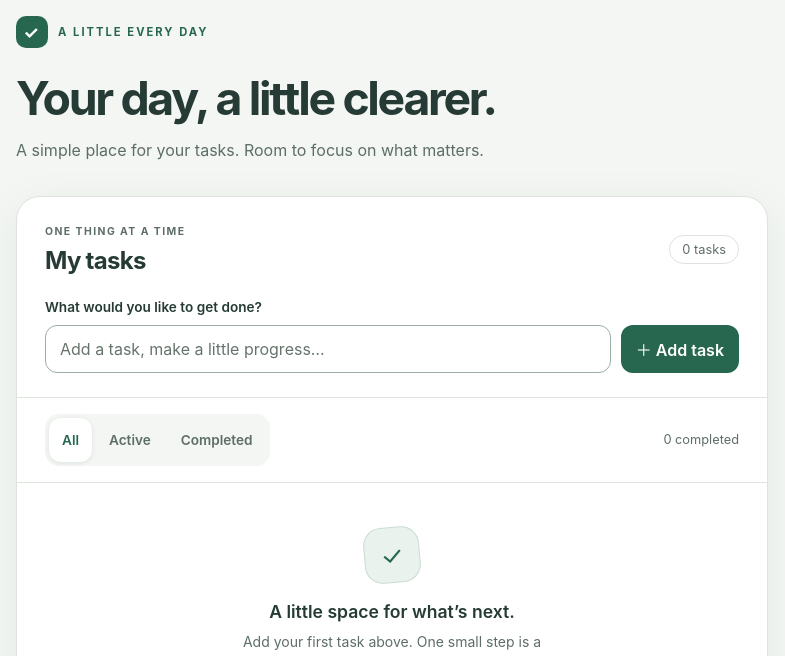
Test case: todo app › continues in memory after failed writes and recovers on a later successful mutation
Type "In memory" into the field labelled "What would you like to get done?" at (328, 349), box [45,325,611,373]
Then press Enter
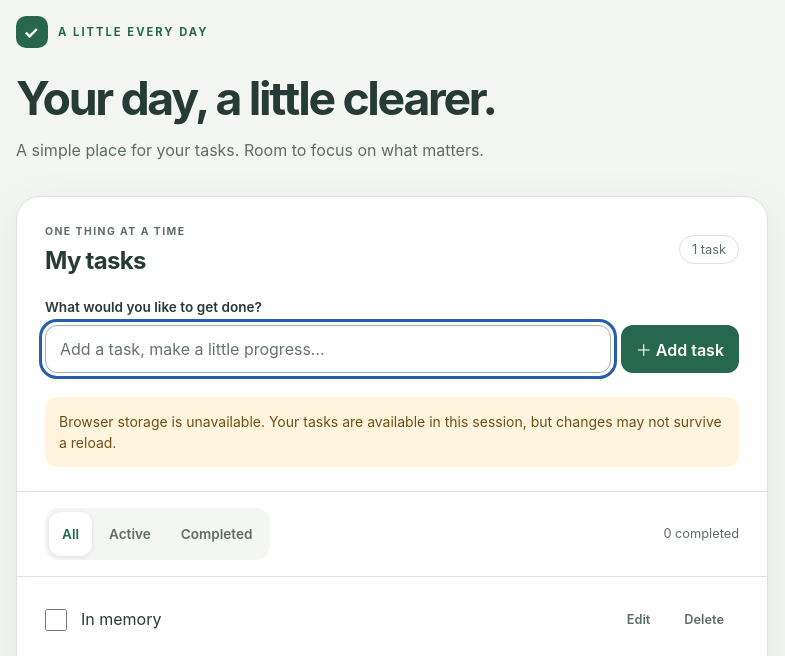
Result: the checkbox labelled "In memory" is shown
Result: the text "Browser storage is unavailable. Your tasks are available in this session, but changes may not survive a reload." is shown at [59,413,722,451]
Click the checkbox labelled "In memory" at (56, 620), box [45,609,67,631]
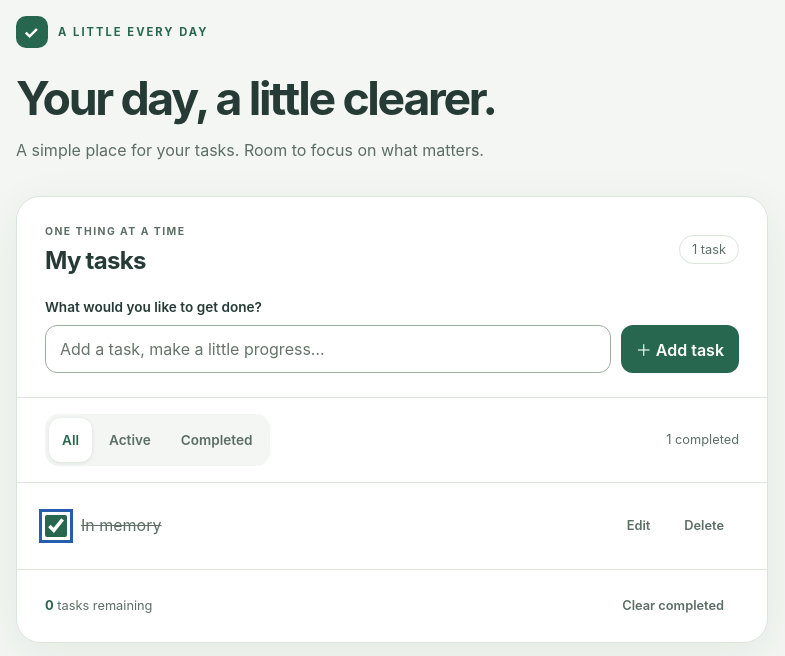
Result: the text "Browser storage is unavailable. Your tasks are available in this session, but changes may not survive a reload." is gone
